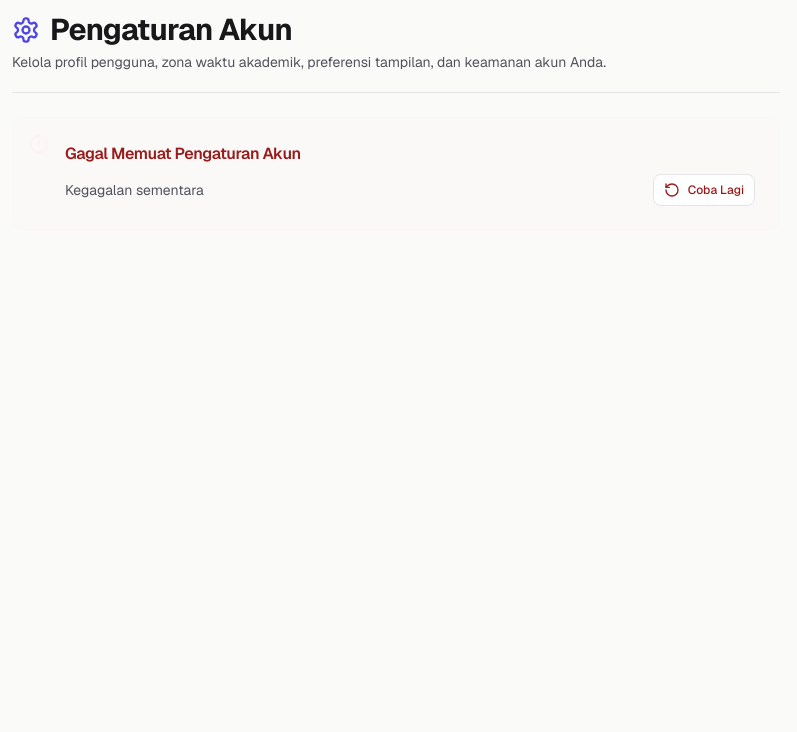
Settings Page Error State & Lifecycle Behavioral Tests › 4. Retry yang berhasil menampilkan halaman Settings lengkap dan membersihkan error state
The image size is (797, 732).
Expected: the message "Gagal Memuat Pengaturan Akun Kegagalan sementara Coba Lagi" is shown, [12,117,780,231]
Expected: the text "Kegagalan sementara" is shown, [65,179,204,201]
Klik tombol Coba Lagi
Step 1. Click the button "Coba Lagi" → x=704, y=190, box [653,174,755,206]
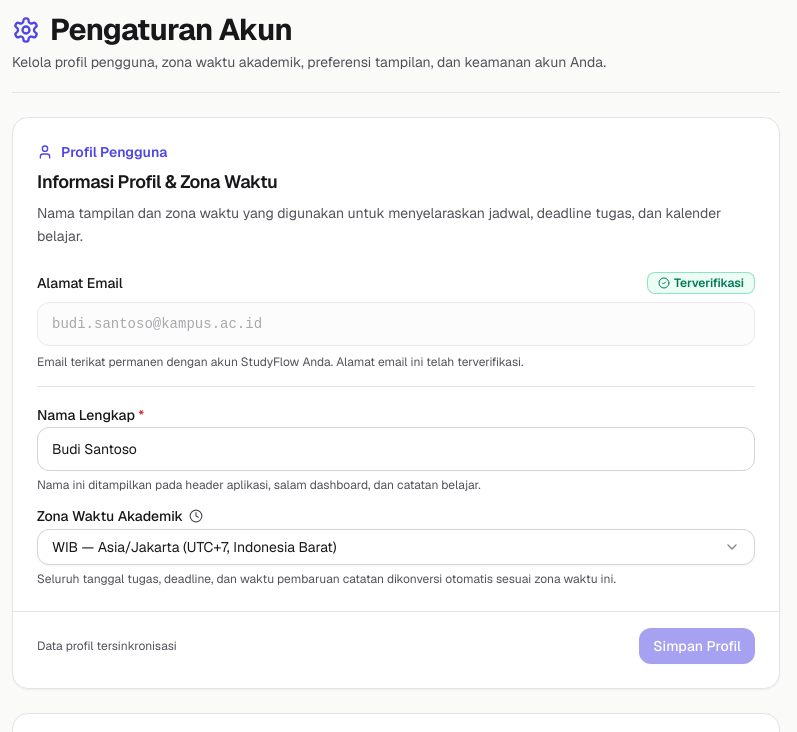
Expected: the field showing "Budi Santoso" is shown, [37,426,755,470]
Expected: the message "Gagal Memuat Pengaturan Akun Kegagalan sementara Coba Lagi" is gone
